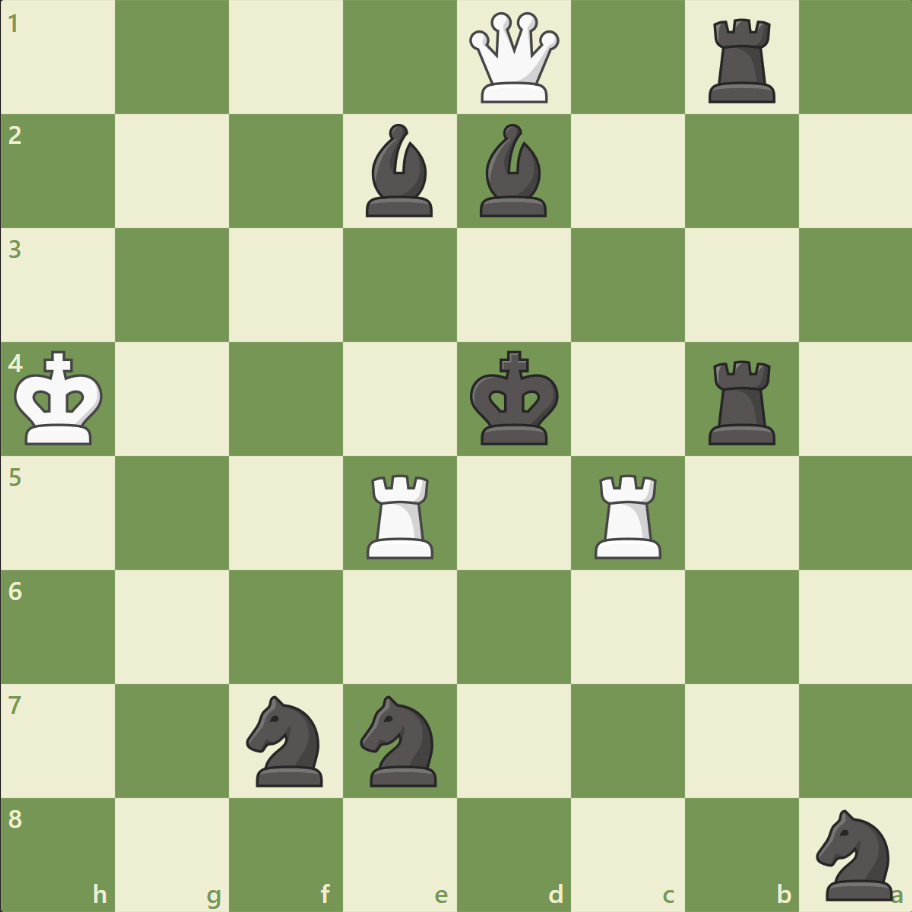K: (11, 344, 111, 452)
Q: (464, 9, 563, 108)
R: (587, 466, 670, 563), (360, 466, 442, 563)
b: (471, 120, 555, 222), (358, 120, 442, 222)
k: (465, 344, 565, 452)
n: (351, 688, 449, 791), (238, 688, 335, 791), (806, 802, 903, 904)
r: (700, 352, 783, 449), (700, 12, 783, 109)
